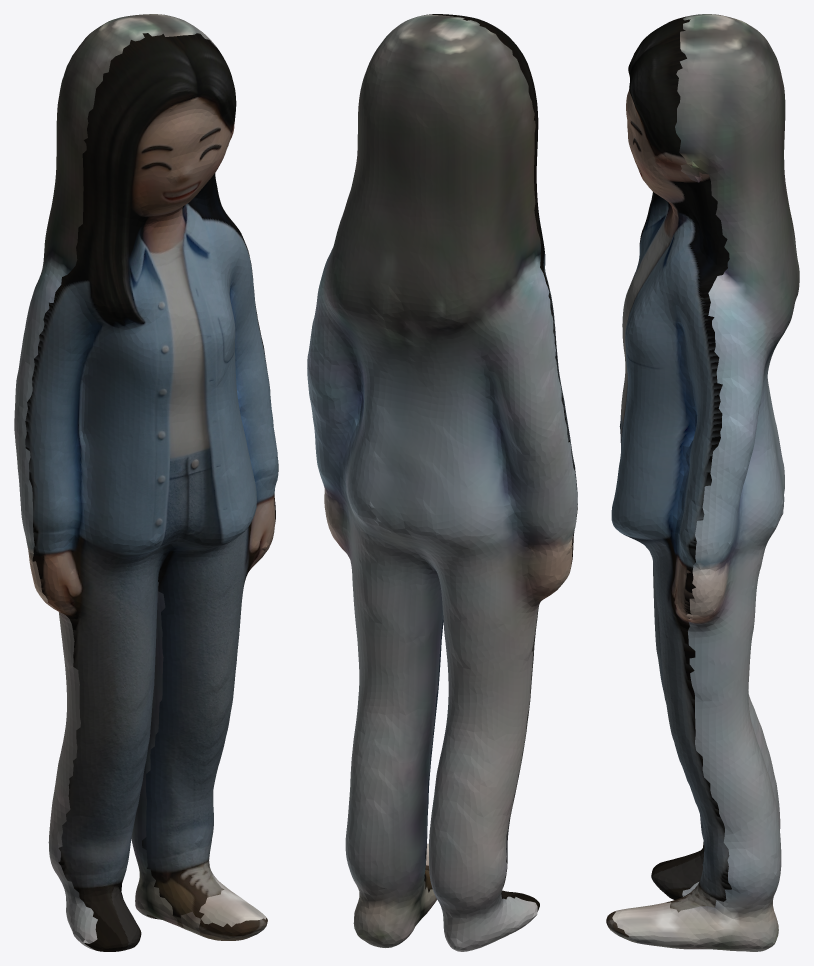
The model's file is shiun.glb.
3 views of the same model, side by side, from view 1: azimuth 30°, elevation 25°; view 2: azimuth 150°, elevation 25°; view 3: azimuth 270°, elevation 25° (orthographic).
Visible parts, largest first — view 1: body_t, legR_t, legL_t, body_c, legR_c, legL_c; view 2: body_c, legR_c, legL_c, body_t, legL_t; view 3: body_c, body_t, legR_c, legR_t, legL_t, legL_c.
Boxes of the visible parts, x1,y1,x2,y2 form: body_t: (25,33,278,618); legR_t: (142,525,267,940); legL_t: (58,554,169,951); body_c: (14,14,233,621); legR_c: (131,582,266,937); legL_c: (48,612,97,949); body_c: (307,14,577,611); legR_c: (339,520,442,947); legL_c: (422,553,539,951); body_t: (426,14,577,568); legL_t: (501,606,539,911); body_c: (675,14,799,624); body_t: (611,16,729,621); legR_c: (612,555,781,951); legR_t: (606,556,731,942); legL_t: (651,562,704,899); legL_c: (682,694,780,896).
Bounding box in the file's own units: 0.2592 × 0.9067 × 0.1756.
Materials: 1 (1 with a texture image).
